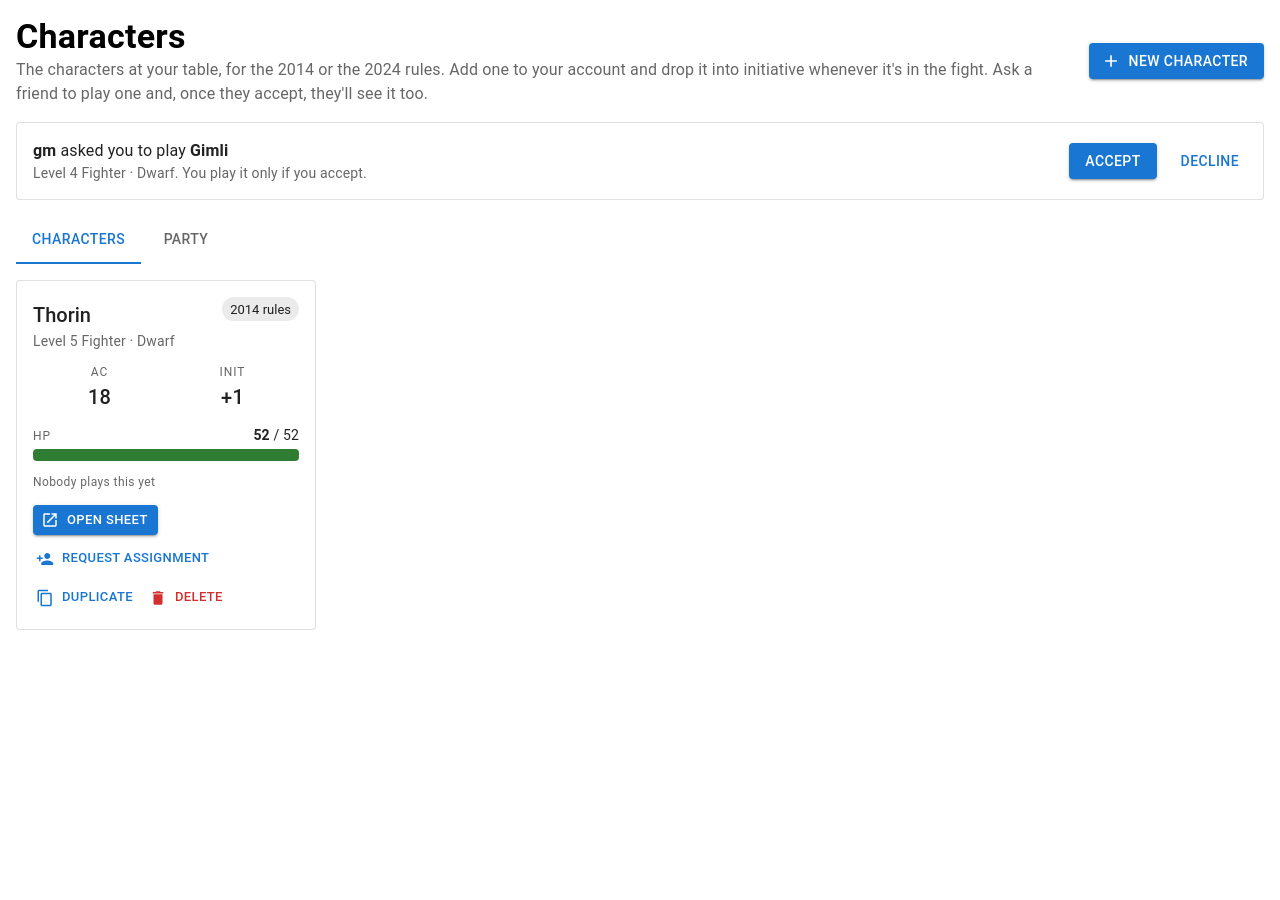
Test: being asked › says when an answer could not be sent, and keeps the request
Click the button with aria-label "Accept Gimli" at (1113, 161), box [1069,143,1157,179]
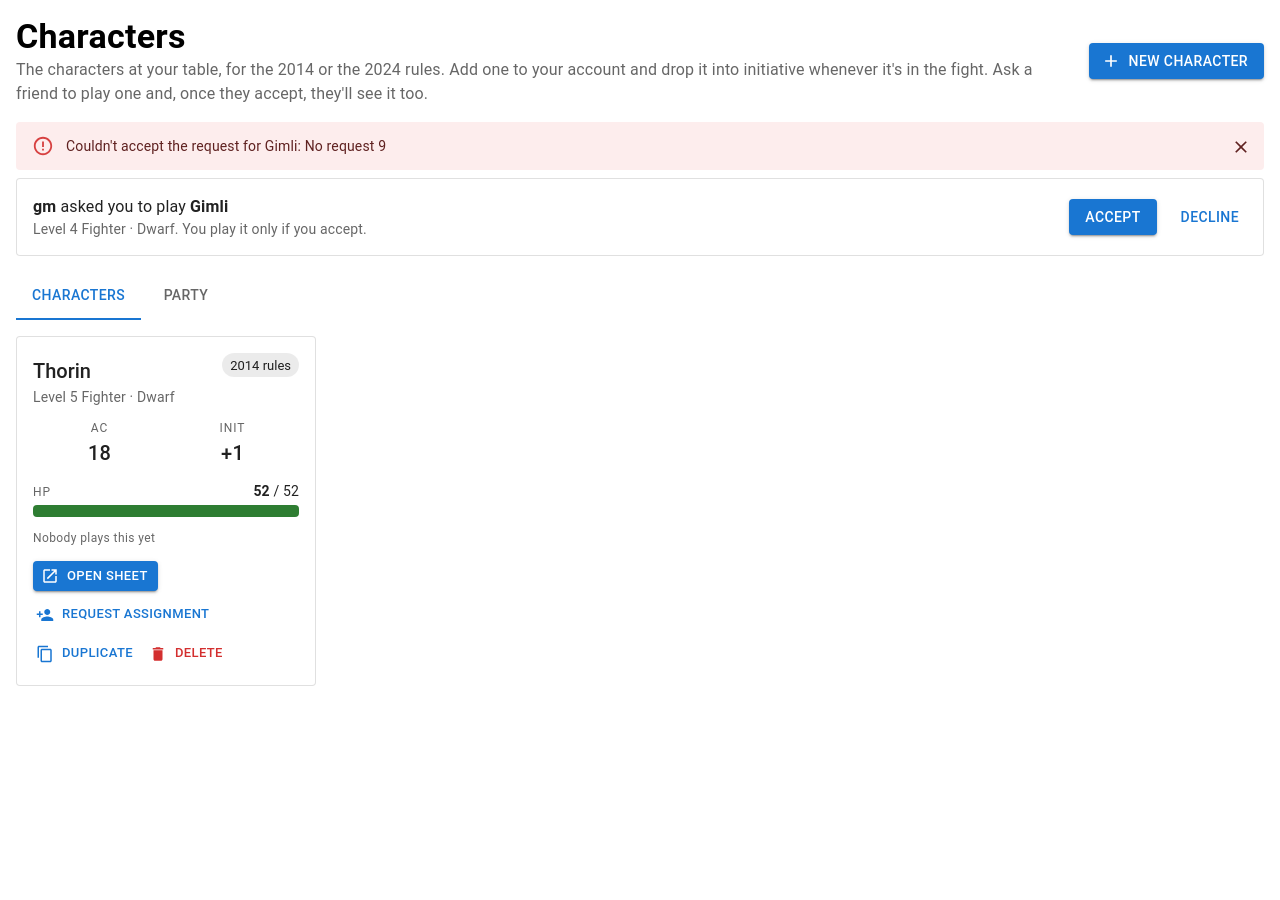
Expected: the text "Couldn't accept the request for Gimli: No request 9" is shown, [66,138,386,154]
